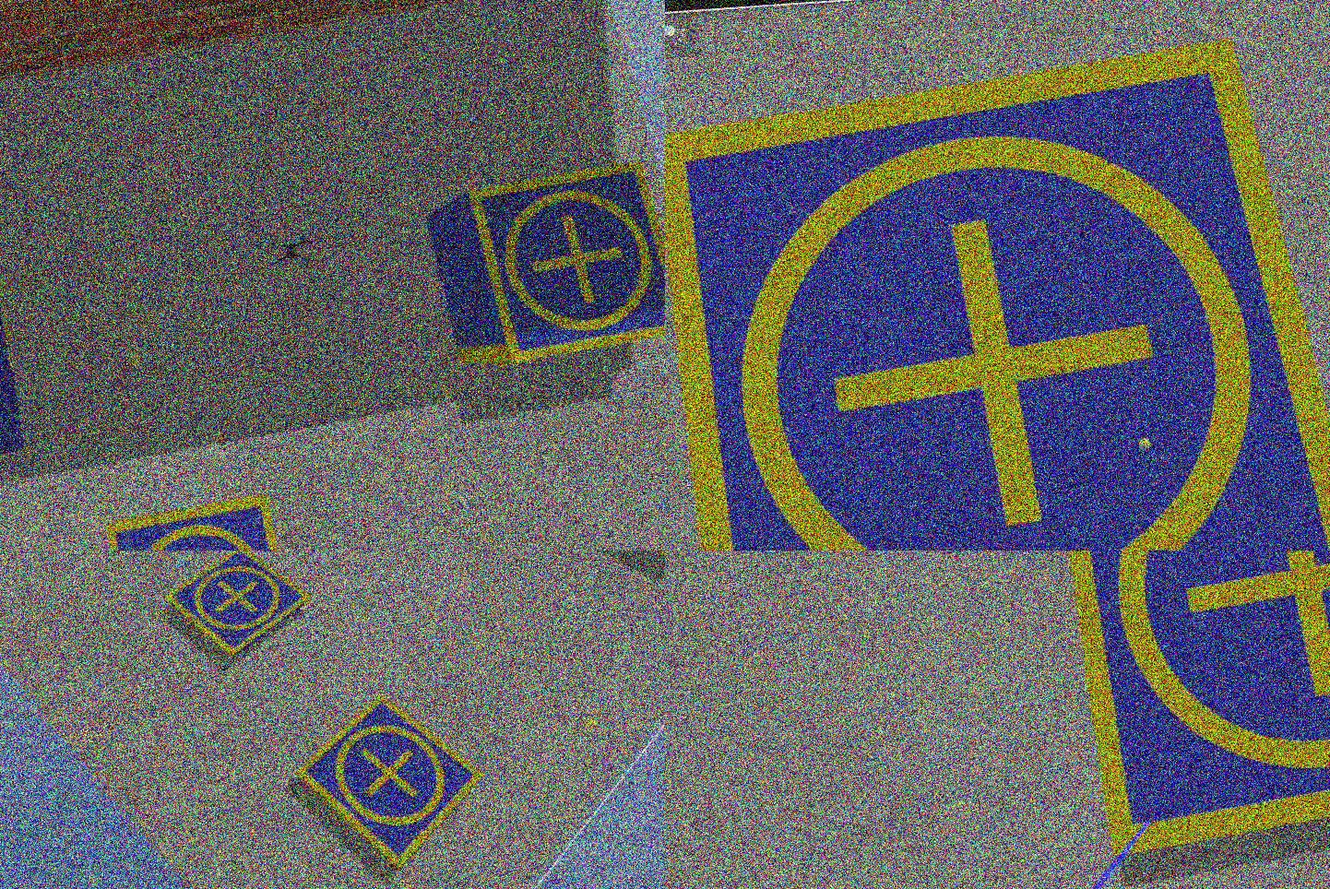small_base: (666, 35, 1330, 551), (1046, 551, 1330, 868), (462, 156, 666, 365), (290, 691, 493, 882), (164, 551, 318, 663), (105, 498, 307, 551)
